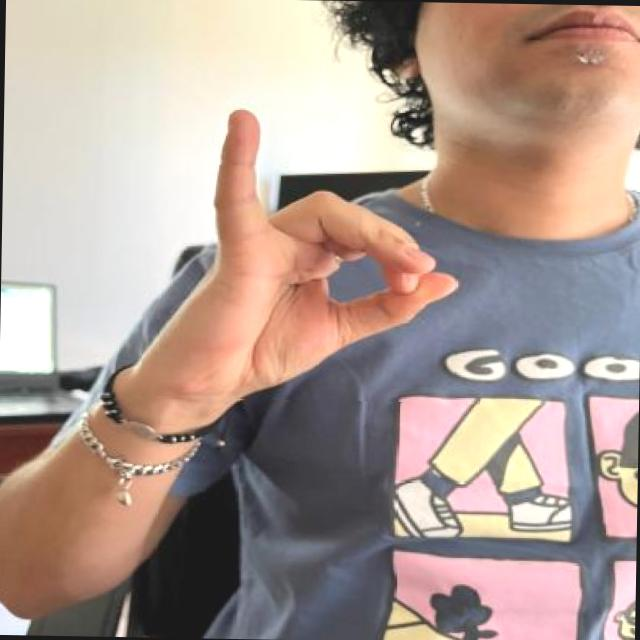D: (140, 95, 460, 402)
